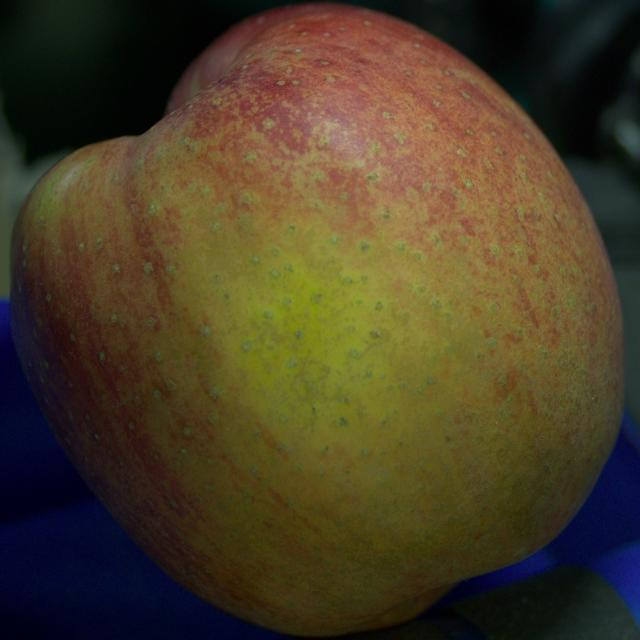apple: (11, 5, 623, 635)
